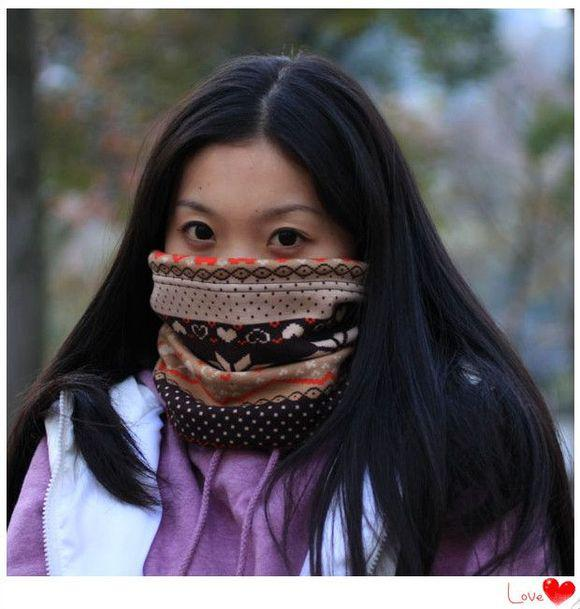OK: (150, 193, 349, 392)
